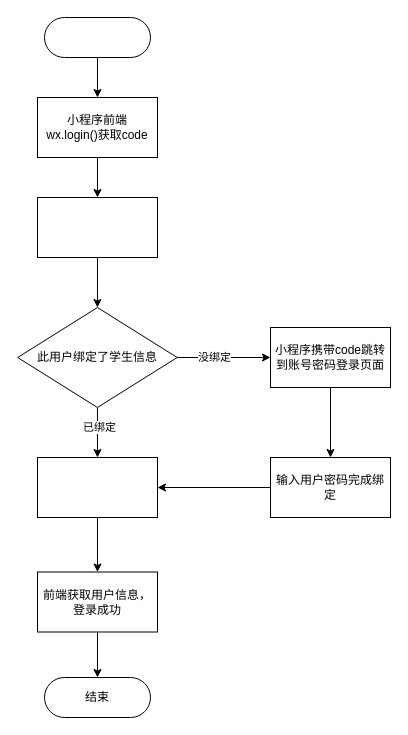
Image size: 408x735. Some labels were removed from this diagram. The shapes that lost their labels are listed below. From the top down, each one's centre as x and y in pixels, then its label:
At (x=97, y=37): "开始".
At (x=97, y=227): "后端根据code和三方应用的类型，获取第三方用户信息，并保存到数据库".
At (x=97, y=487): "生成访问、刷新令牌；插入登录日志".
